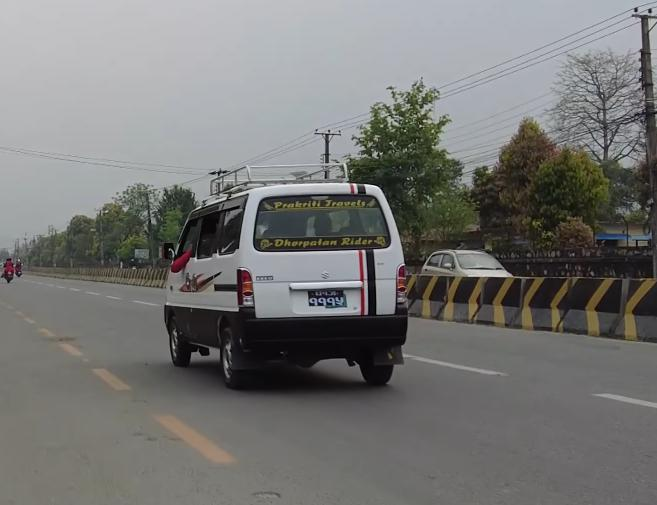van: (155, 158, 434, 390)
